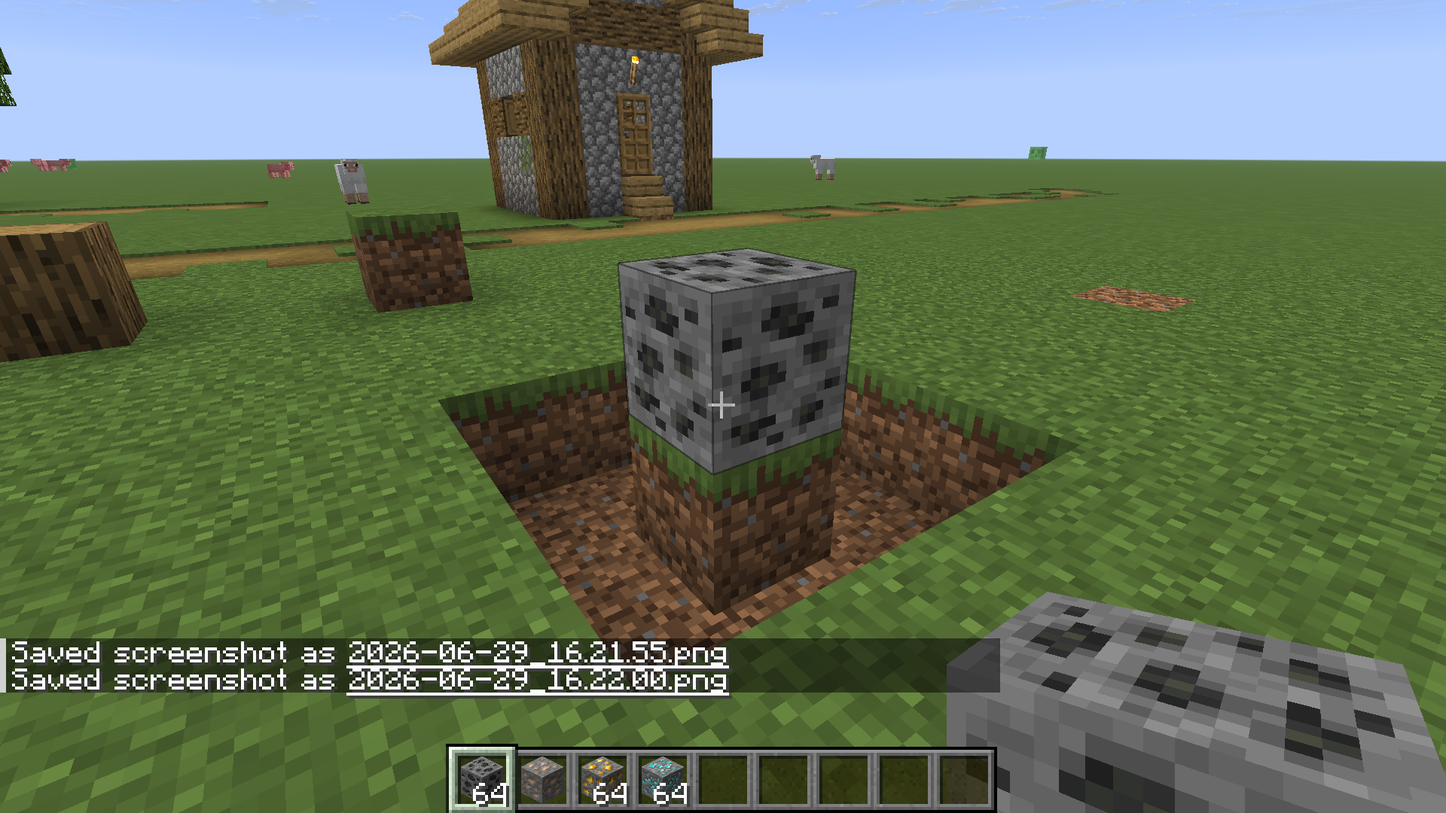Sheep: (328, 157, 386, 208), (806, 145, 847, 188)
coal ore: (621, 248, 851, 468)
